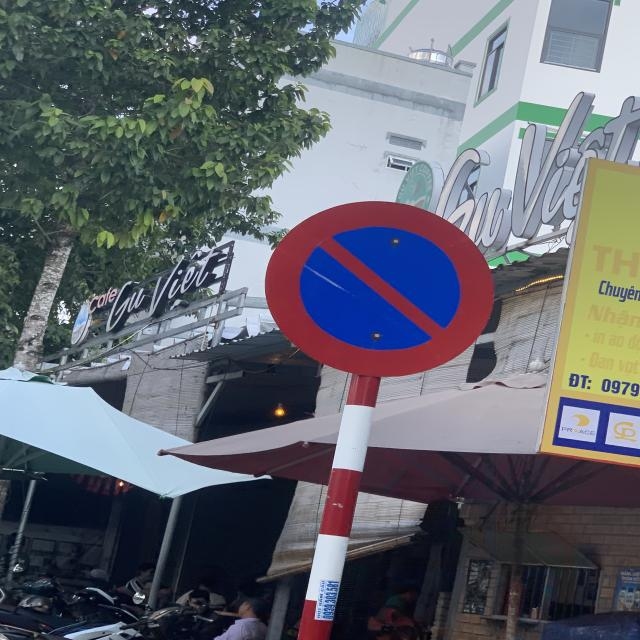Cam_Dau_Xe: (264, 201, 500, 377)
